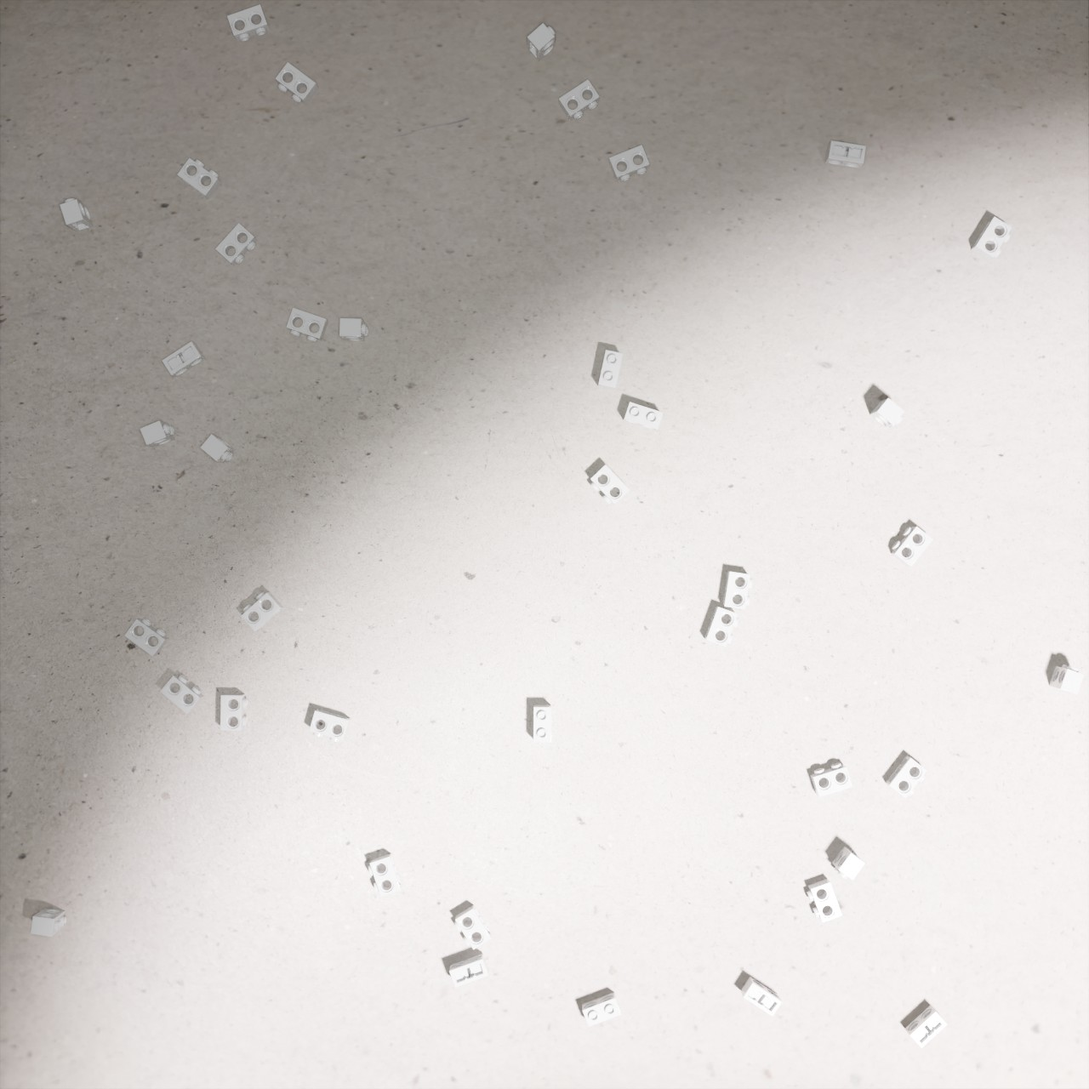lego: (275, 62, 319, 105), (177, 158, 222, 200), (905, 1005, 948, 1048), (215, 223, 258, 266), (885, 755, 927, 799), (971, 216, 1012, 261), (124, 617, 169, 657), (558, 79, 600, 121), (160, 674, 204, 714), (891, 526, 933, 567), (241, 592, 284, 632), (454, 905, 492, 950), (740, 977, 782, 1017), (590, 464, 630, 505), (227, 4, 270, 42), (162, 341, 206, 378), (608, 145, 650, 182), (286, 307, 329, 343), (807, 878, 842, 922), (810, 763, 853, 798), (368, 853, 402, 897), (704, 606, 739, 647), (449, 953, 489, 988), (582, 992, 622, 1027), (309, 709, 351, 742), (832, 846, 866, 881), (825, 140, 866, 169), (722, 571, 753, 609), (623, 402, 663, 431), (60, 198, 94, 232), (1049, 664, 1085, 695), (527, 23, 555, 62), (869, 398, 905, 428), (30, 908, 67, 937), (220, 694, 248, 731), (200, 434, 235, 463), (598, 350, 623, 390), (140, 421, 175, 447), (339, 318, 368, 341), (534, 705, 551, 743)
